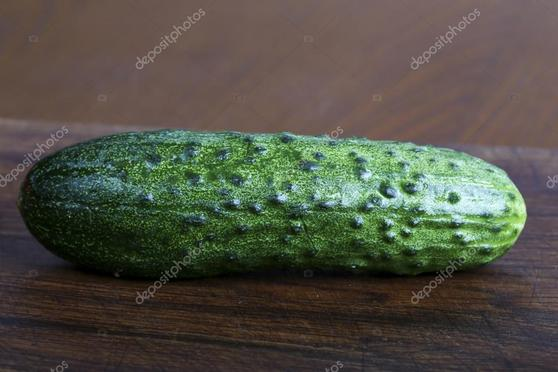cucumber: (21, 128, 527, 265)
